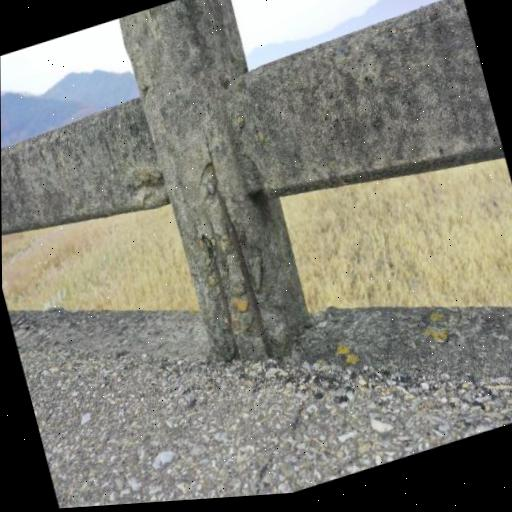exposed_rebar: (218, 191, 271, 356), (214, 260, 238, 354)
